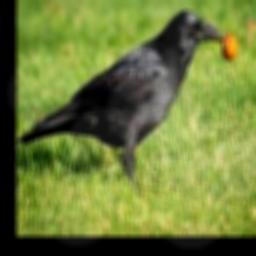Crow: (18, 8, 225, 182)
